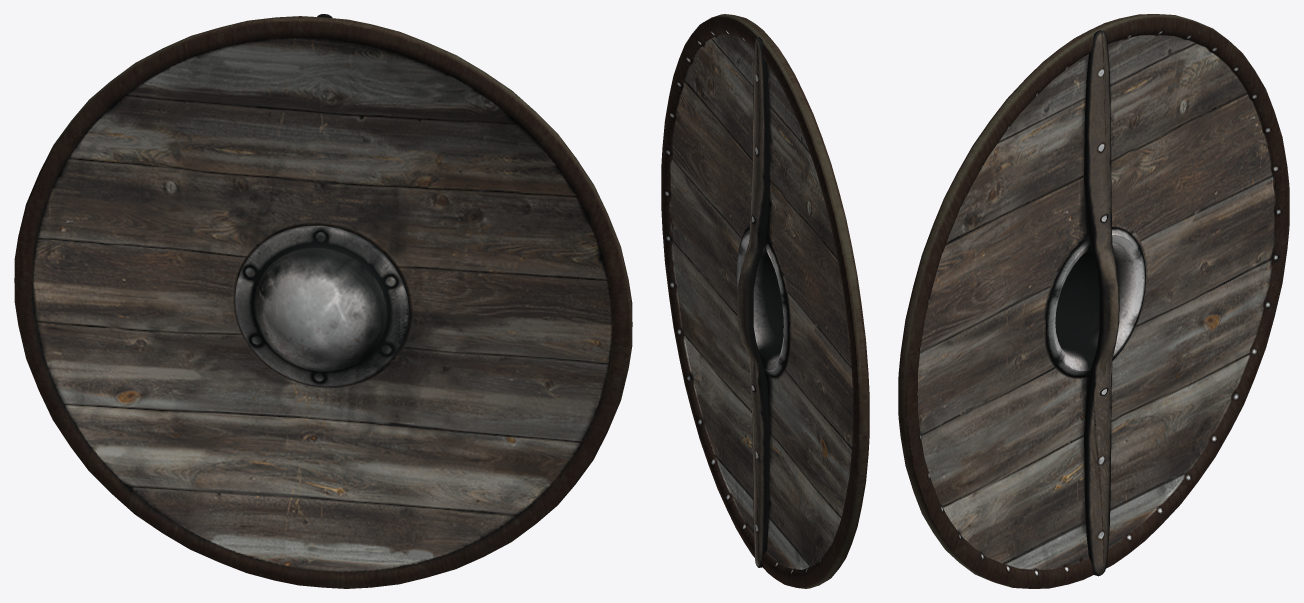
Rendered from S_ShieldMesh.fbx.
3 renders of one model, left to right at view 1: azimuth 30°, elevation 25°; view 2: azimuth 150°, elevation 25°; view 3: azimuth 270°, elevation 25°, orthographic. The views are drawn at different scales.
Parts seen in each view (by area): view 1: Shield-Rounded-Medium_1_LOD0; view 2: Shield-Rounded-Medium_1_LOD0; view 3: Shield-Rounded-Medium_1_LOD0.
Boxes of the visible parts, x1,y1,x2,y2 form: Shield-Rounded-Medium_1_LOD0: (14,14,632,588); Shield-Rounded-Medium_1_LOD0: (661,14,869,588); Shield-Rounded-Medium_1_LOD0: (898,14,1289,588).
Size of the model in its own units: 51.78 by 67.01 by 43.74.
